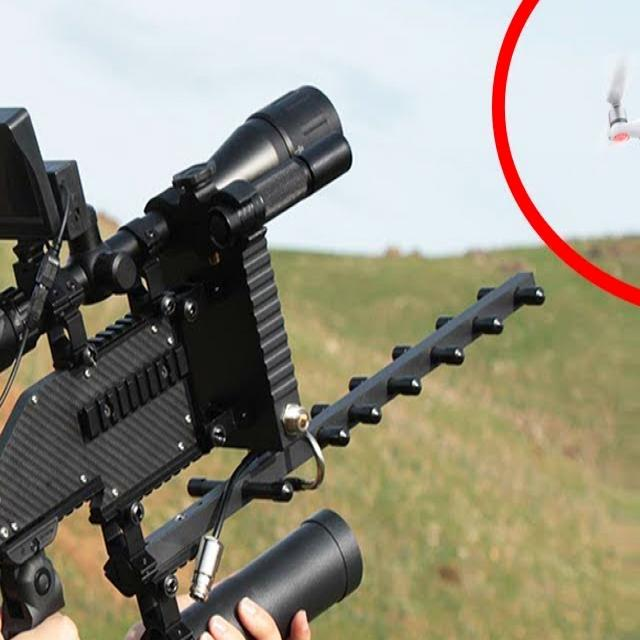drone: (564, 0, 640, 241)
